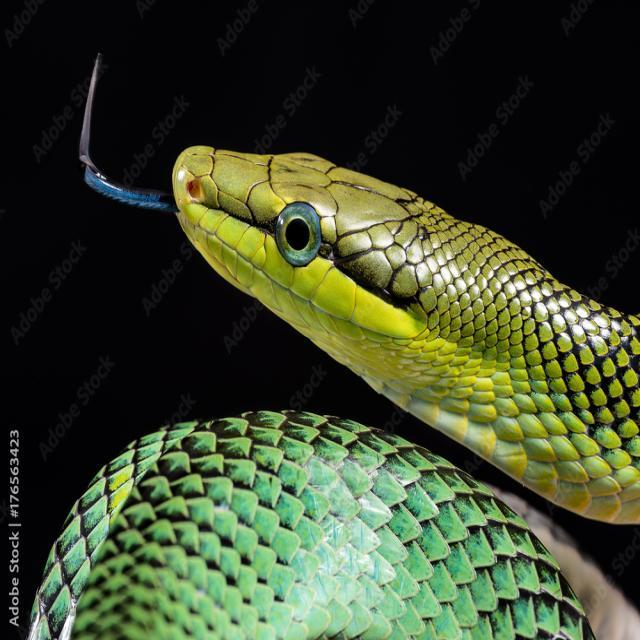Snake: (72, 22, 640, 640)
